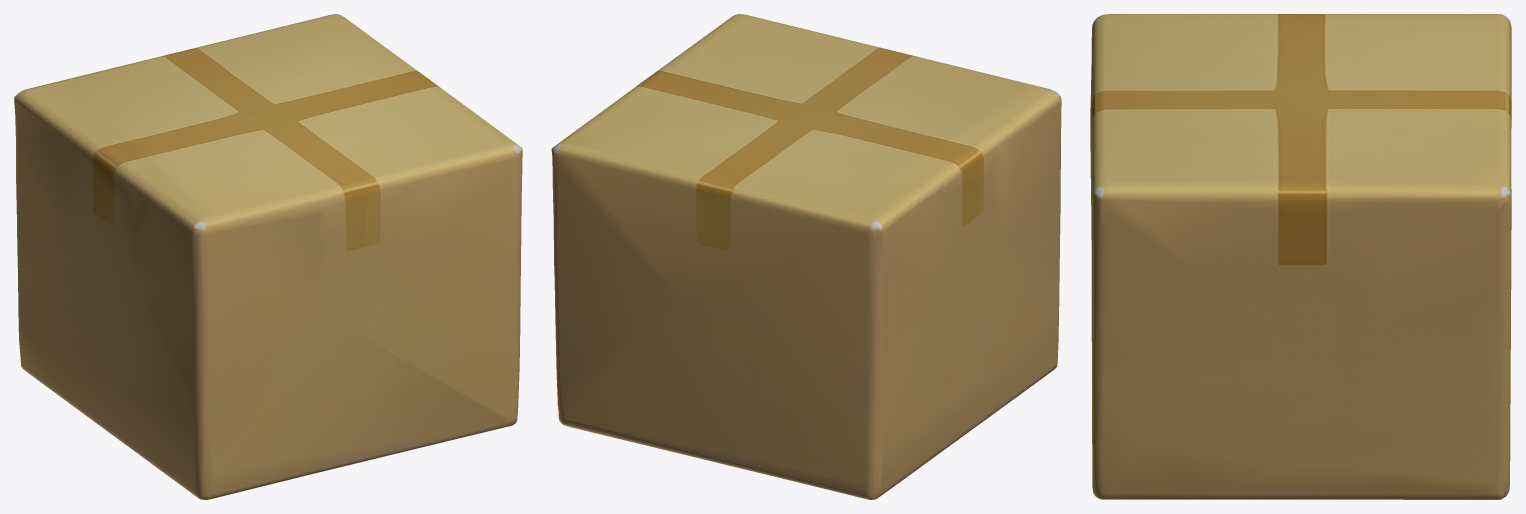
Rendered from karton.obj.
The picture shows the model from 3 angles, left to right: view 1: azimuth 30°, elevation 25°; view 2: azimuth 150°, elevation 25°; view 3: azimuth 270°, elevation 25°; orthographic projection. The views are drawn at different scales.
Parts seen in each view (by area): view 1: Bodygeom1; view 2: Bodygeom1; view 3: Bodygeom1.
Part boxes in pixels (<box>): Bodygeom1: <box>14,14,522,499</box>; Bodygeom1: <box>551,14,1061,499</box>; Bodygeom1: <box>1090,14,1511,499</box>.
Size of the model in its own units: 3.5 by 2.83 by 3.43.
1 material, 1 textured.
